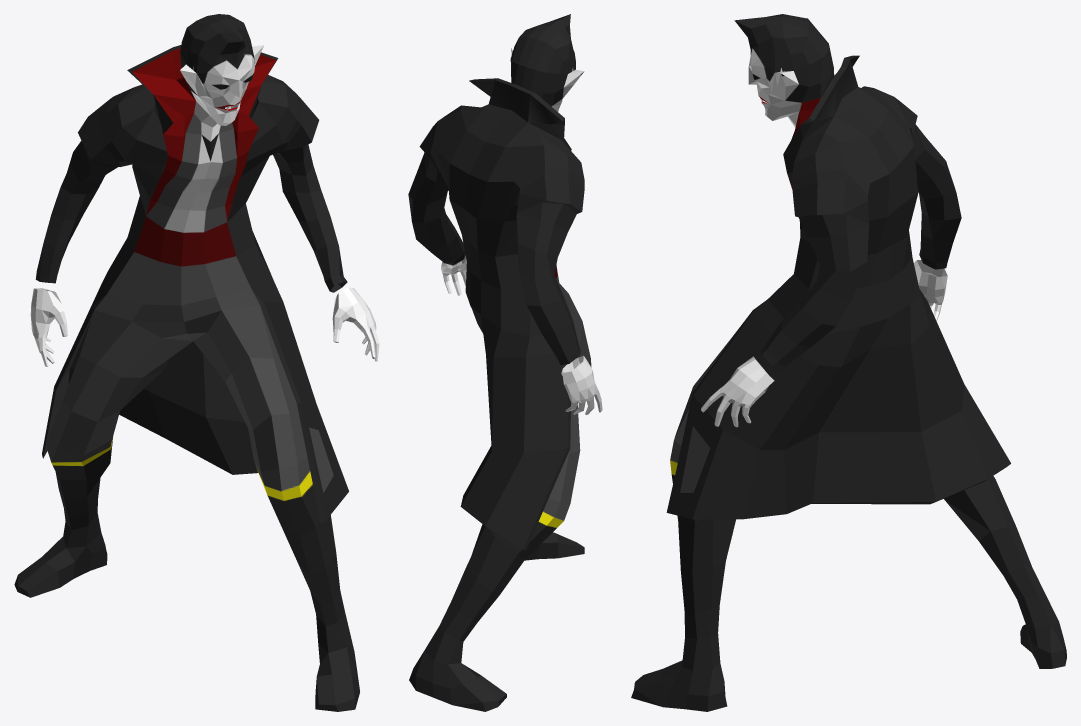
File: VampireIdle(112).obj
The picture shows the model from 3 angles, left to right: view 1: azimuth 30°, elevation 25°; view 2: azimuth 150°, elevation 25°; view 3: azimuth 270°, elevation 25°; orthographic projection. The views are drawn at different scales.
Parts seen in each view (by area): view 1: Plane002; view 2: Plane002; view 3: Plane002.
Boxes of the visible parts, bbox=[...] form: Plane002: bbox=[14, 14, 379, 711]; Plane002: bbox=[408, 14, 602, 711]; Plane002: bbox=[631, 14, 1066, 711].
Size of the model in its own units: 126 by 305 by 185.
